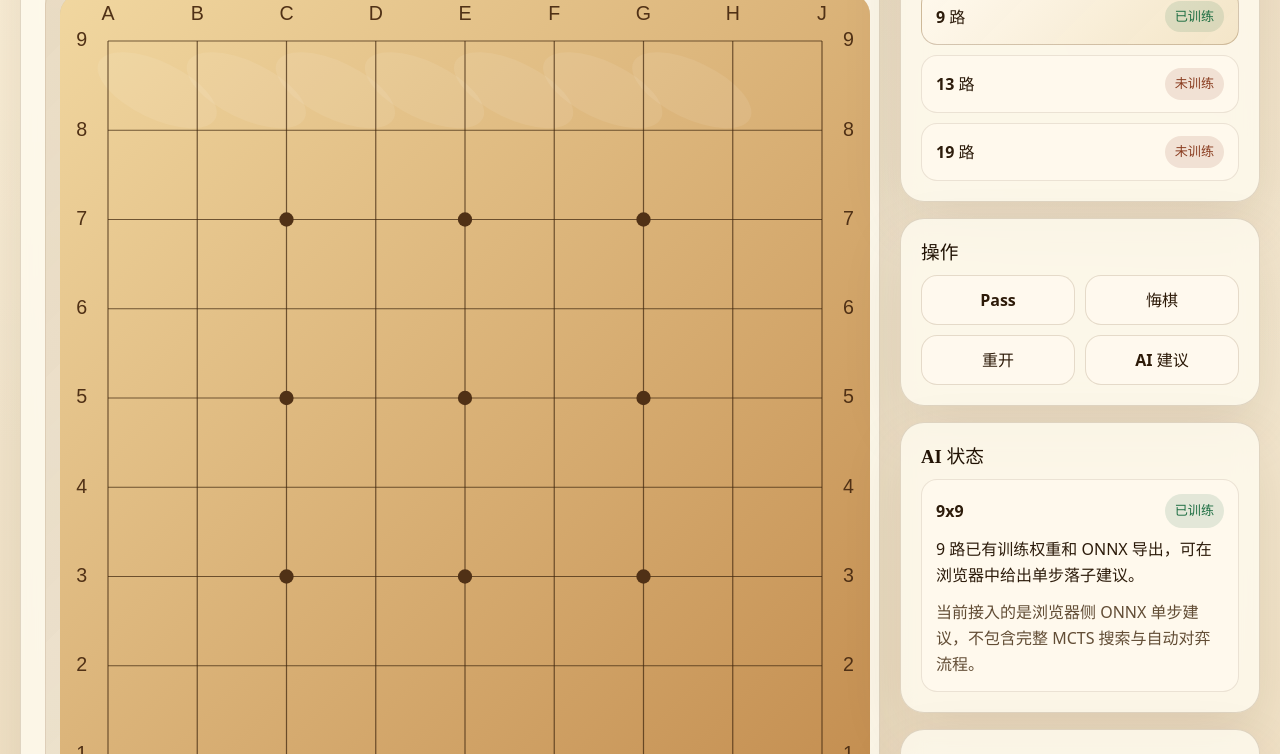
Test: AI request lifetime › still displays a normal model suggestion
(page scrolled)
What coordinates should you click on to do the following:
click the button "AI 建议"
I would click on:
 (1162, 360)
Its box is x1=1085 y1=335 x2=1239 y2=385.
(page scrolled)
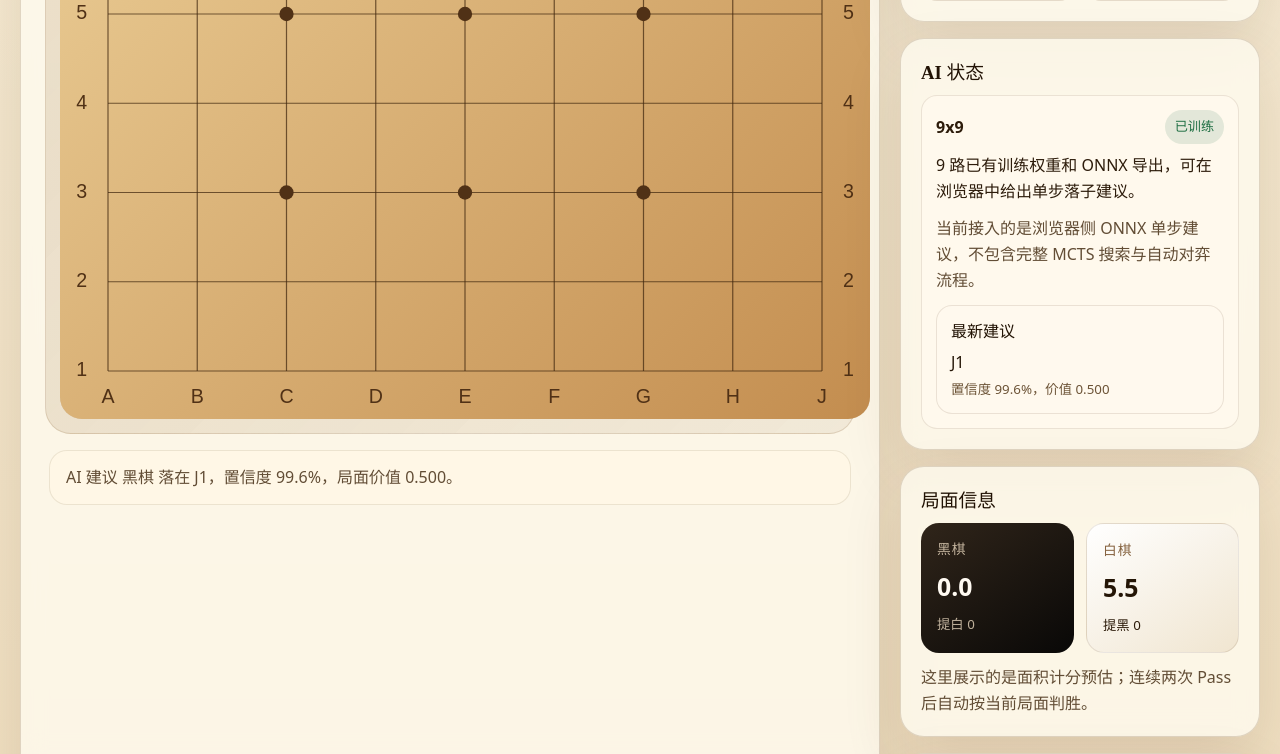
Check: the text with class "notice-bar" shows "J1", box x1=66 y1=466 x2=462 y2=488
Check: the element with class "ai-suggestion" shows "J1", box x1=951 y1=351 x2=964 y2=373
